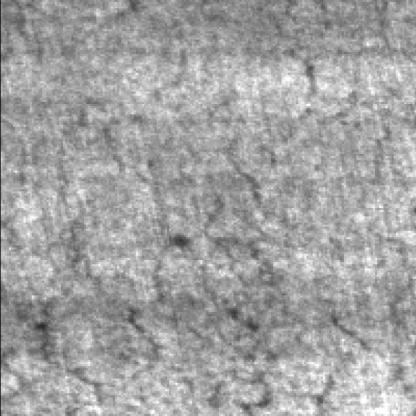crazing: (194, 50, 314, 410), (31, 141, 158, 412)
